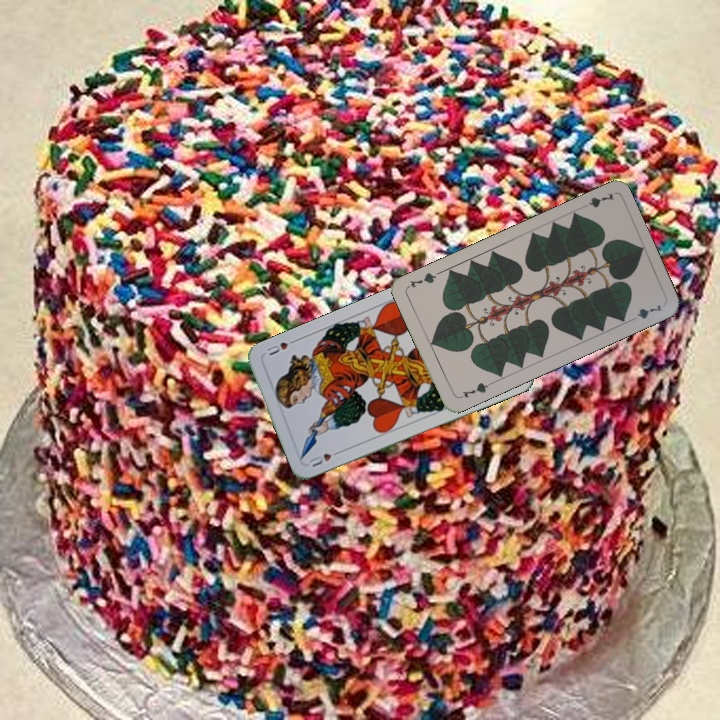G7: (576, 189, 616, 212), (455, 378, 493, 401)
HU: (305, 446, 344, 470)
